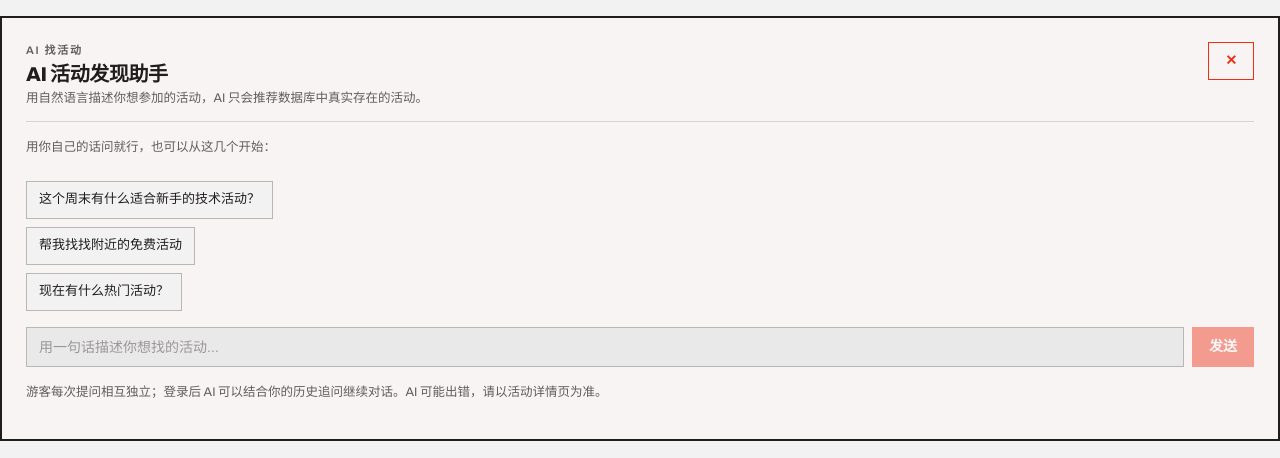
Test: AiDiscoveryAssistant › falls back to a localised message when the answer comes back empty
Type "随便问问" into the field labelled "用一句话描述你想找的活动…".
click(605, 347); type("随便问问")  # box [26,327,1184,367]
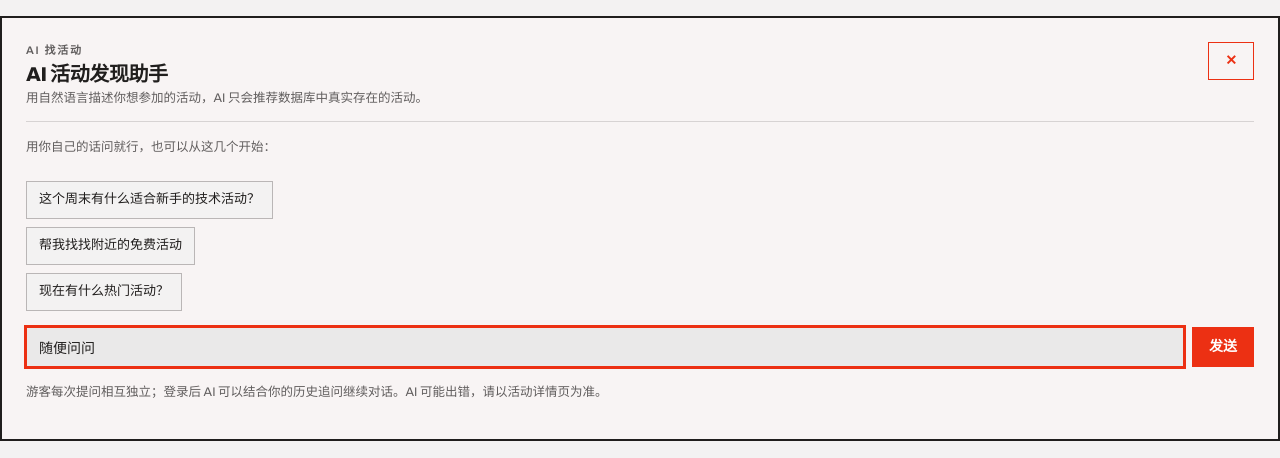
Click the button "发送".
click(1223, 347)  # box [1192,327,1254,367]
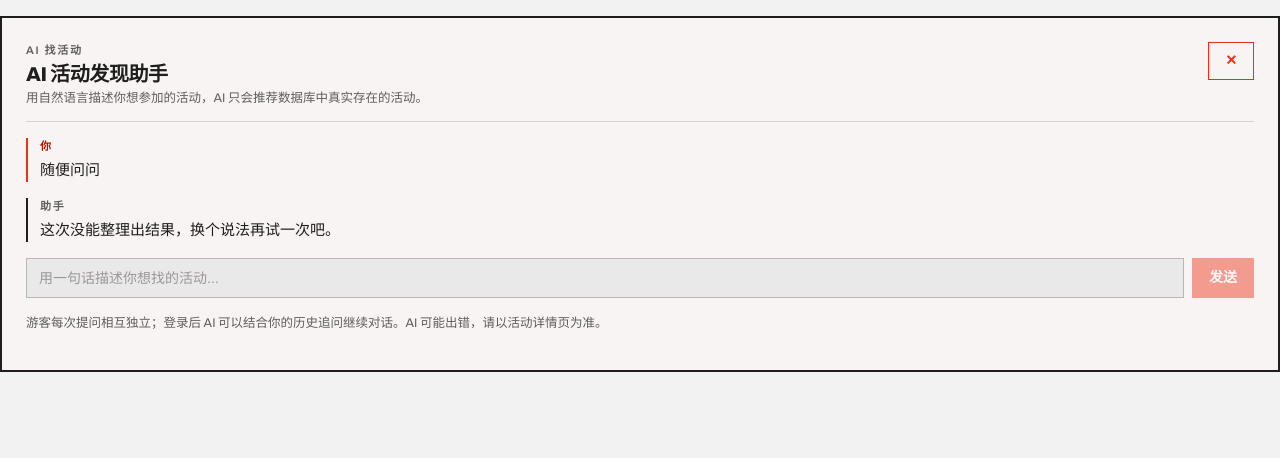
Check: the text "这次没能整理出结果，换个说法再试一次吧。" is shown, box [40,222,340,238]
